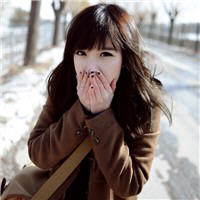face: (73, 31, 122, 97)
